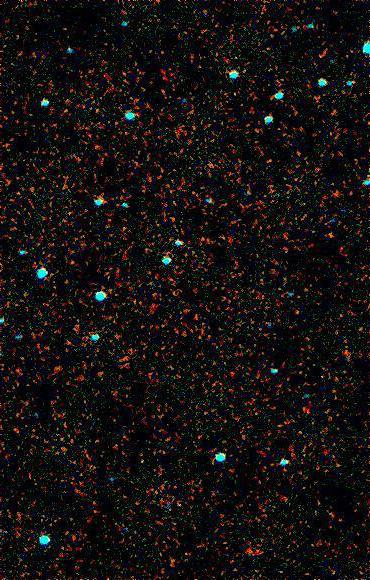star: (314, 220, 344, 250)
